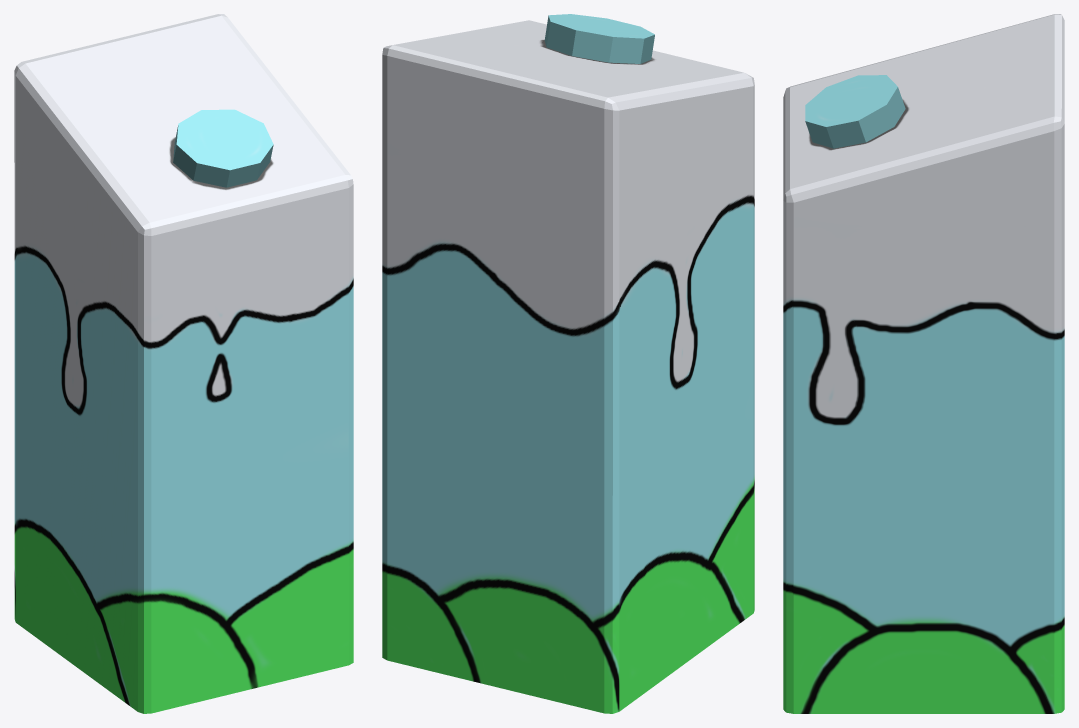
Rendered from Caixinha de leite.fbx.
The picture shows the model from 3 angles, left to right: view 1: azimuth 30°, elevation 25°; view 2: azimuth 150°, elevation 25°; view 3: azimuth 270°, elevation 25°; orthographic projection. The views are drawn at different scales.
Visible parts, largest first — view 1: Caixa de leite; view 2: Caixa de leite; view 3: Caixa de leite.
Boxes of the visible parts, box(x1,y1,x2,y2) form: Caixa de leite: box(14, 14, 353, 713); Caixa de leite: box(382, 14, 754, 713); Caixa de leite: box(783, 14, 1064, 713).
Bounding box in the file's own units: 274 × 678 × 292.
Materials: 1 (1 with a texture image).
